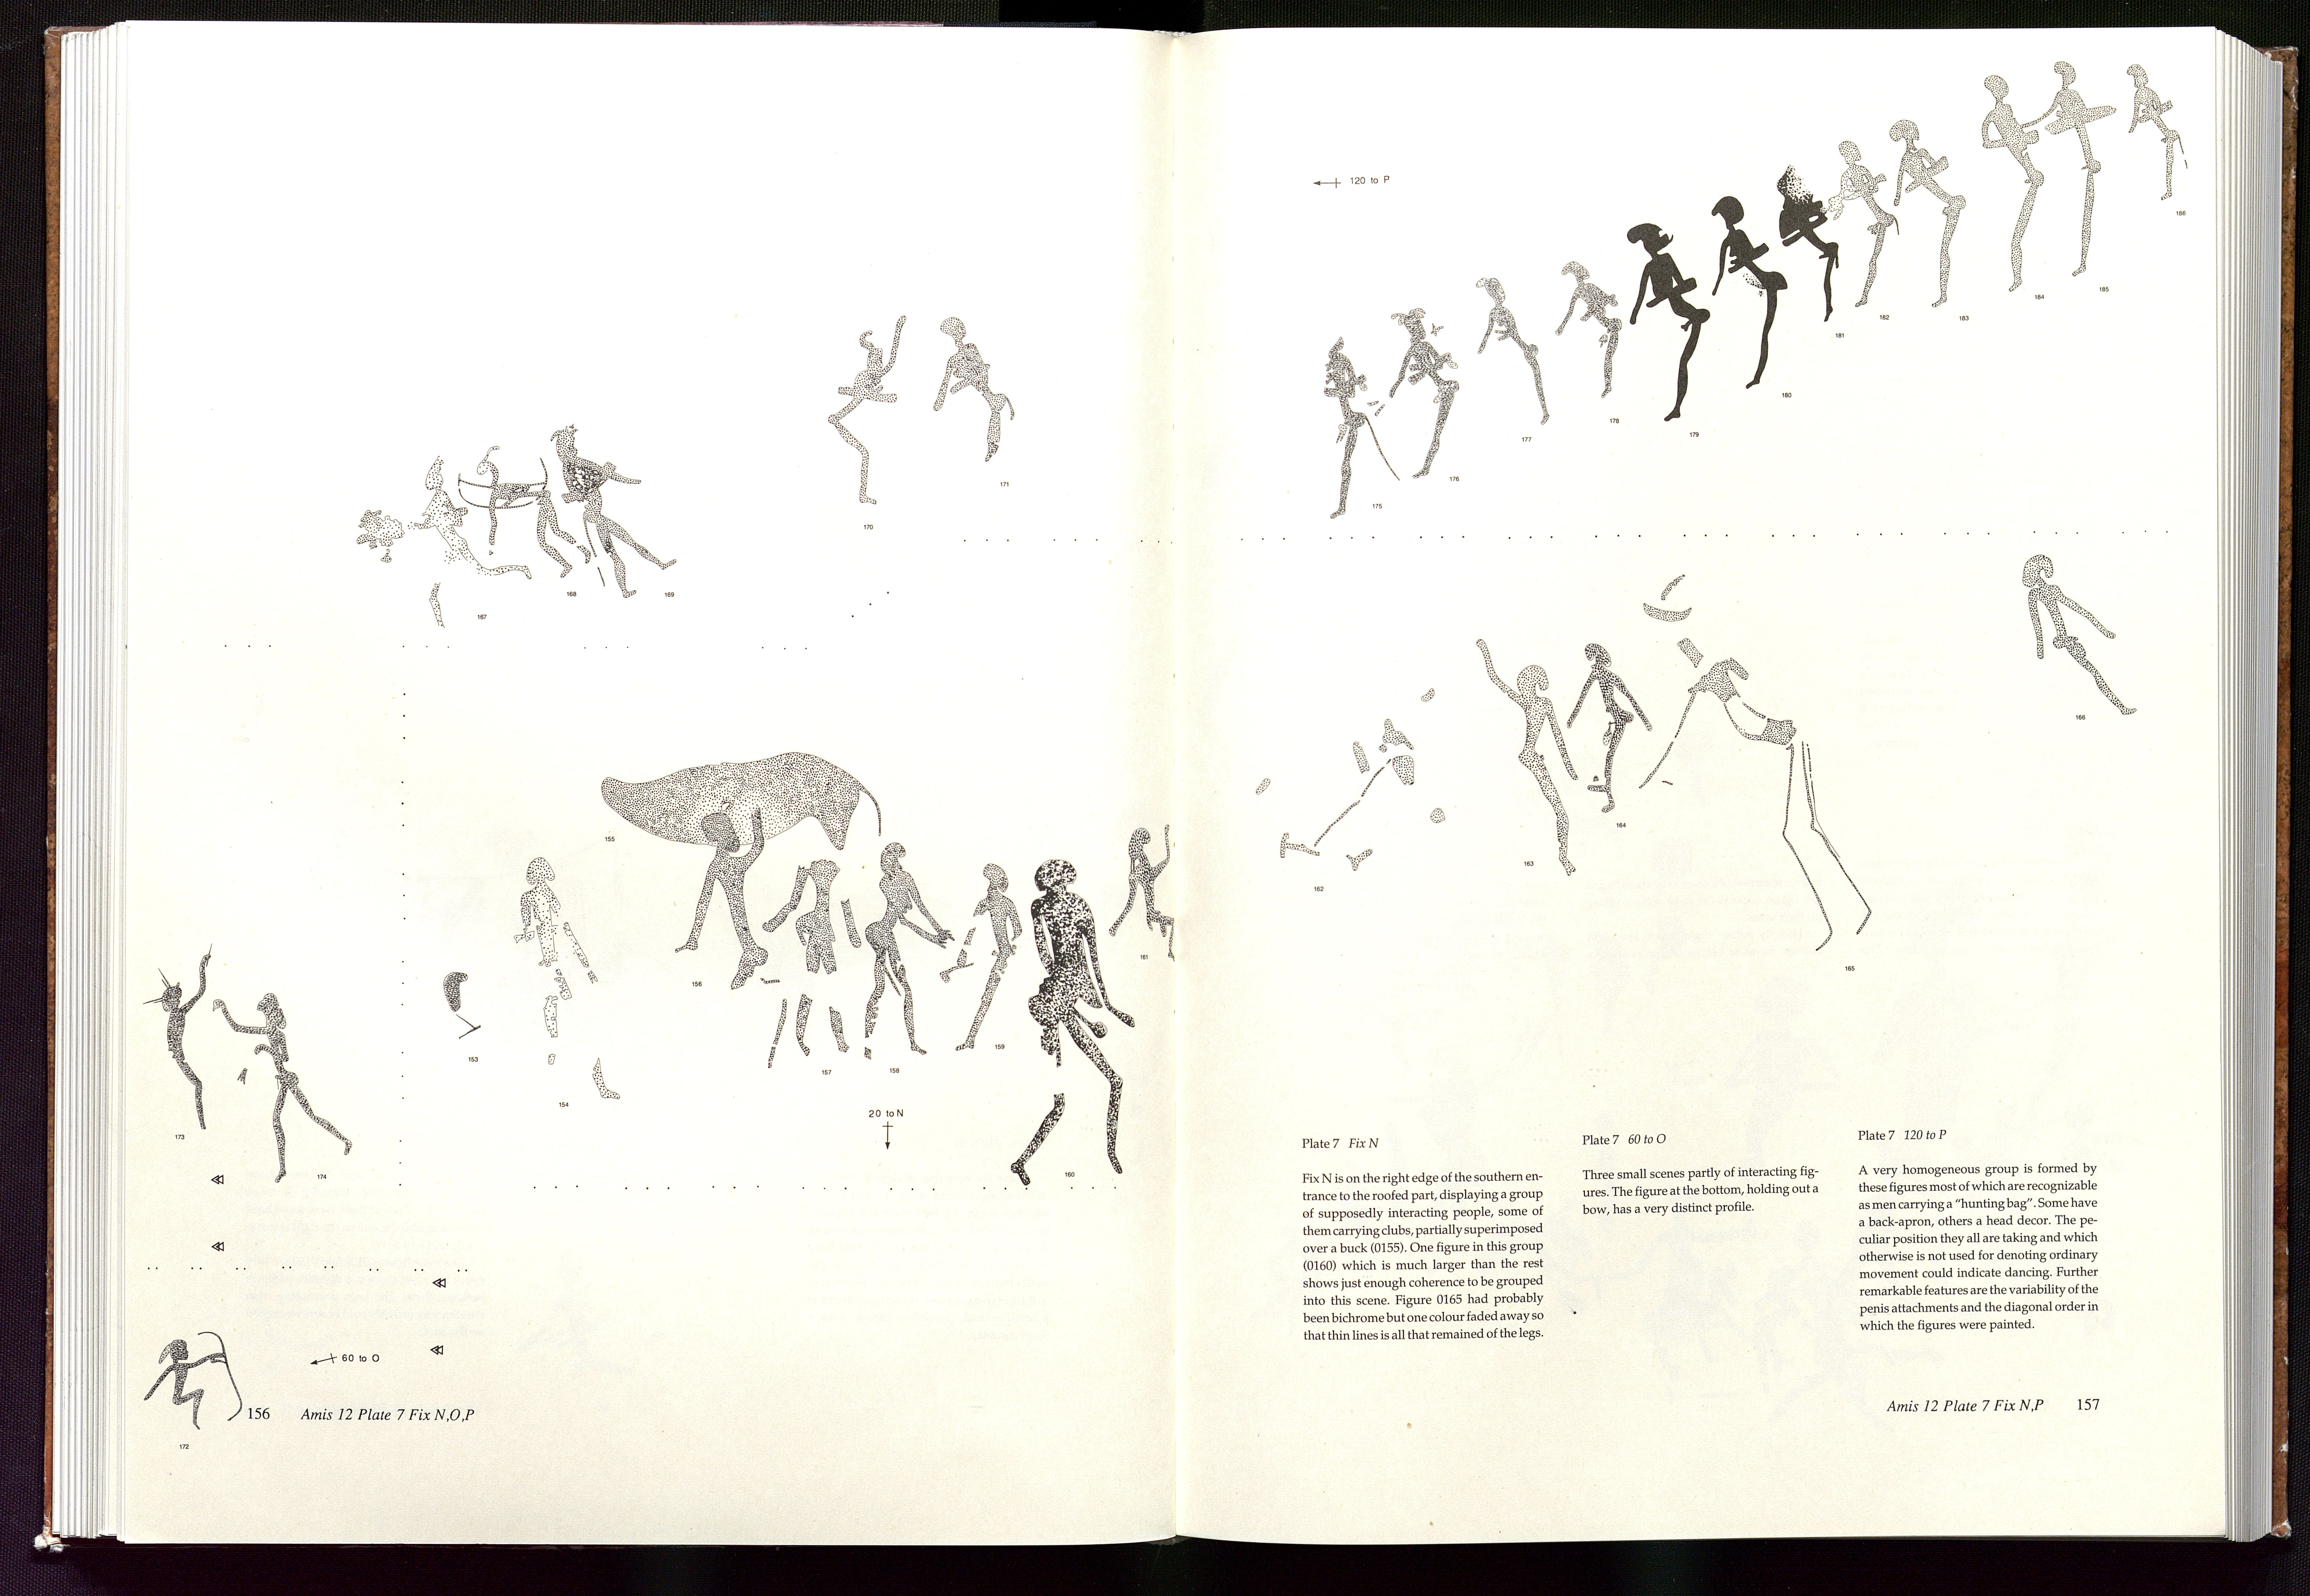animal: (599, 740, 905, 986)
human: (1620, 576, 1890, 961), (1001, 858, 1146, 1202), (206, 976, 380, 1204), (1461, 632, 1588, 880), (2015, 548, 2148, 730), (851, 836, 954, 1069), (1617, 210, 1726, 423), (817, 305, 915, 529), (932, 858, 1035, 1069), (1699, 187, 1797, 408), (505, 846, 591, 1079), (1885, 116, 1978, 327), (2040, 48, 2121, 288), (1559, 635, 1654, 838), (1969, 67, 2052, 301), (1303, 330, 1399, 517), (930, 313, 1031, 492), (1765, 163, 1858, 350), (1372, 305, 1465, 490), (1465, 269, 1564, 441), (1826, 138, 1912, 333), (137, 946, 223, 1136), (1551, 252, 1637, 418), (137, 1327, 252, 1440), (1104, 821, 1190, 974), (2114, 65, 2195, 224)
